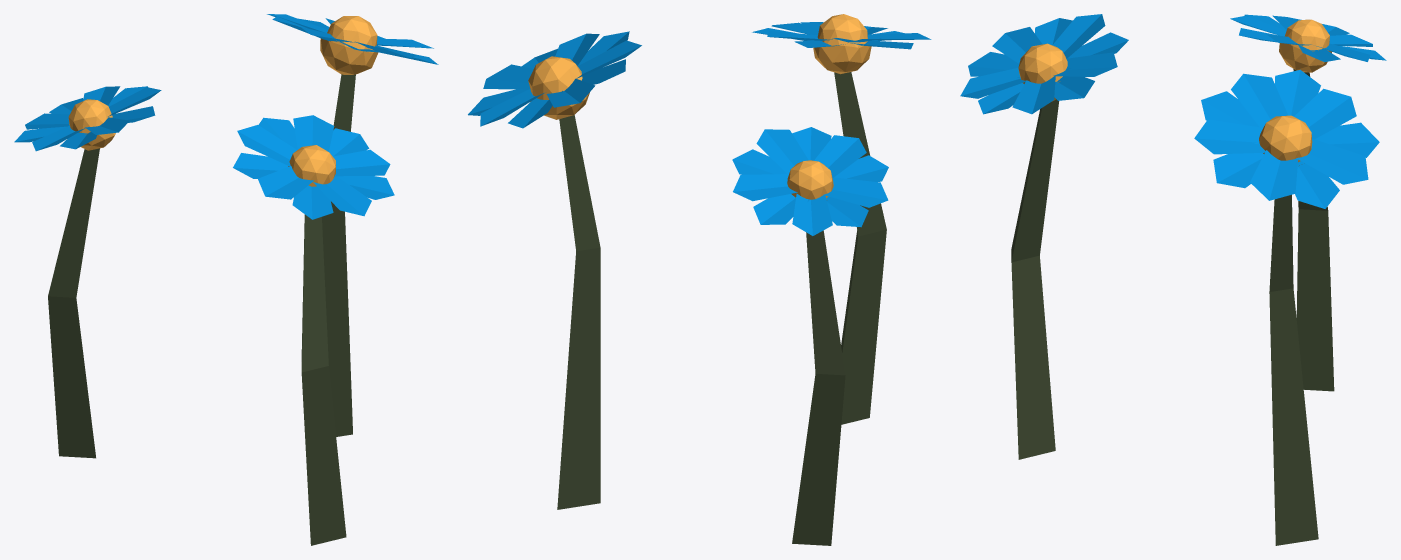
The model's file is Flower-short-blue.fbx.
3 renders of one model, left to right at view 1: azimuth 30°, elevation 25°; view 2: azimuth 150°, elevation 25°; view 3: azimuth 270°, elevation 25°, orthographic. The views are drawn at different scales.
Visible parts, largest first — view 1: Flower-short-blue; view 2: Flower-short-blue; view 3: Flower-short-blue.
Boxes of the visible parts, bbox=[...] form: Flower-short-blue: bbox=[14, 14, 438, 545]; Flower-short-blue: bbox=[468, 14, 931, 545]; Flower-short-blue: bbox=[960, 14, 1386, 545].
Size of the model in its own units: 16.07 by 16.73 by 14.6.
